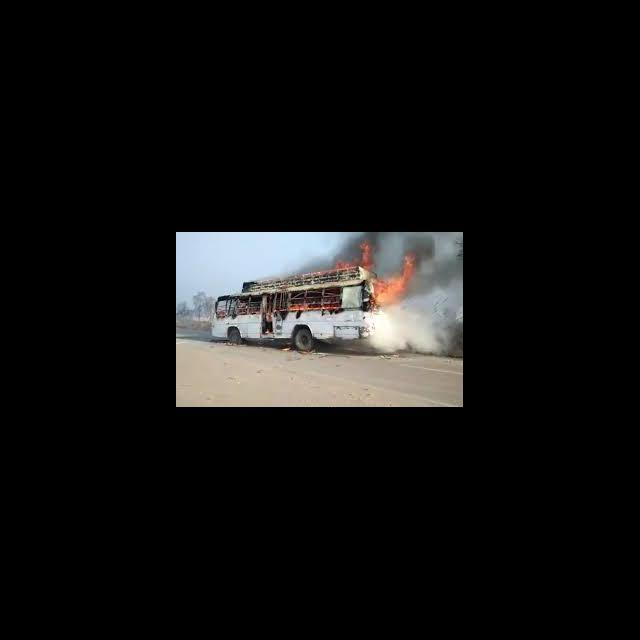Fire: (368, 254, 417, 306), (334, 240, 380, 270), (286, 302, 344, 311), (266, 311, 274, 322), (219, 312, 226, 317), (266, 328, 271, 334)
Smoke: (372, 308, 460, 355), (418, 254, 462, 294), (404, 234, 462, 254), (408, 292, 462, 308)
